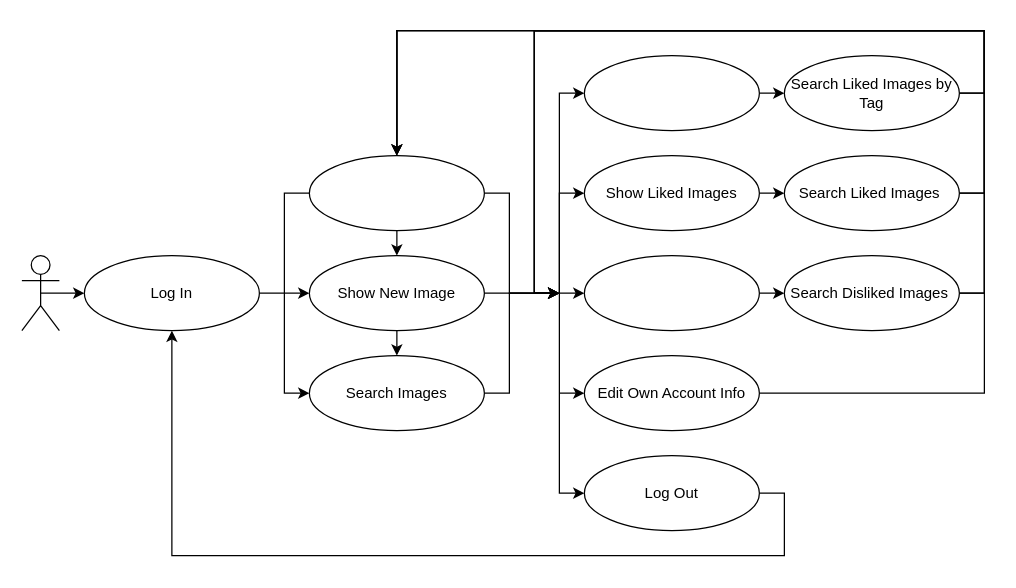
Some shapes in this 1016 by 588 pixel diagram are drawn without their labels. Each missing label, with the box of its shape:
Show Disliked Images: (583, 254, 759, 331)
Show Liked Images by Tag: (583, 54, 759, 131)
Show Particular Image: (308, 154, 484, 231)
User: (21, 254, 59, 331)
